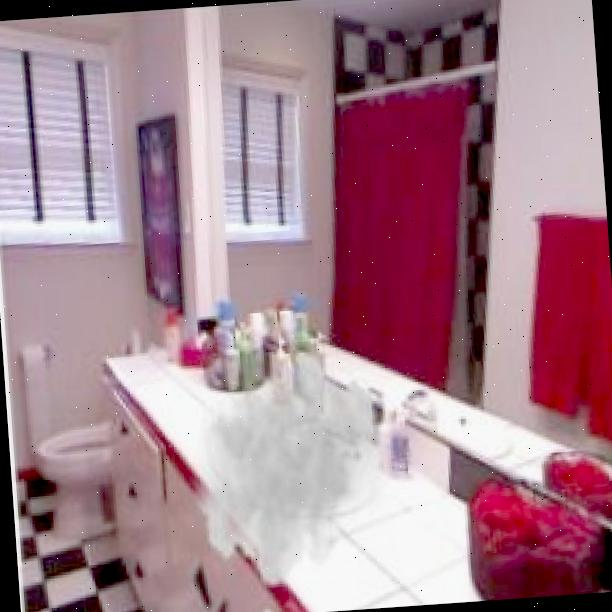smoke: (182, 343, 398, 595)
